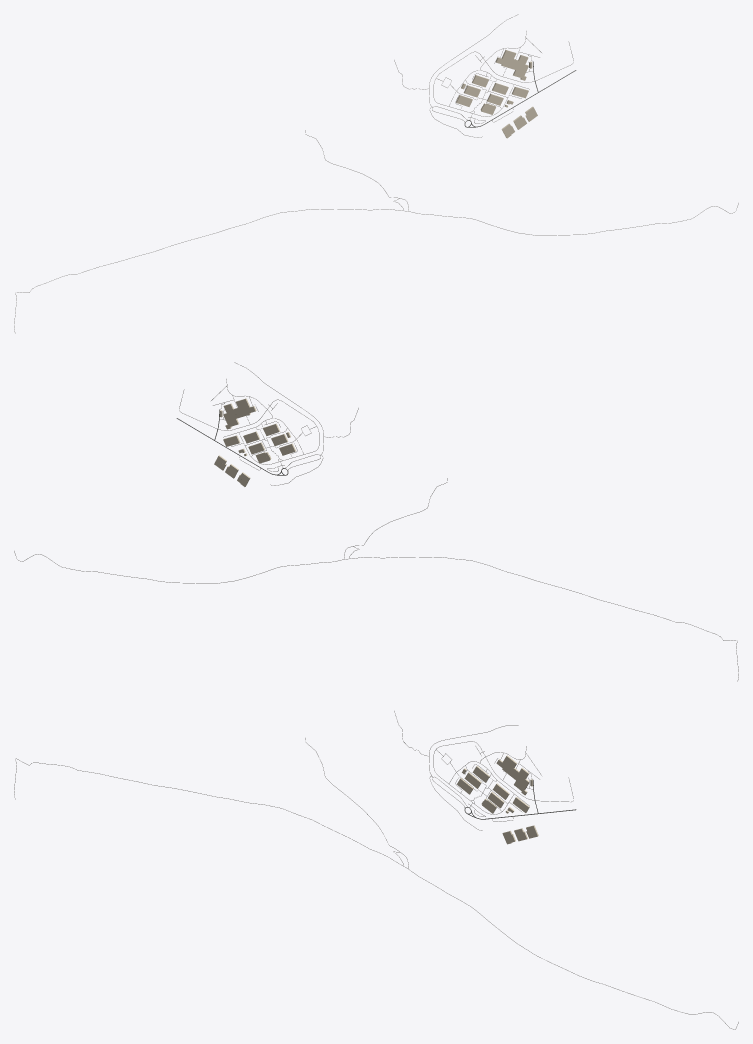
File: historic-palestine-11_35_3526_3297.glb
The picture shows the model from 3 angles, top to bottom: view 1: azimuth 30°, elevation 25°; view 2: azimuth 150°, elevation 25°; view 3: azimuth 330°, elevation 25°; orthographic projection.
Visible parts, largest first — view 1: Road .001, Building_; view 2: Road .001, Building_; view 3: Road .001, Building_.
Part boxes in pixels (x1=…): Road .001: x1=14, y1=203, x2=738, y2=333; Building_: x1=495, y1=49, x2=528, y2=80; Road .001: x1=14, y1=551, x2=738, y2=681; Building_: x1=223, y1=398, x2=256, y2=429; Road .001: x1=14, y1=758, x2=738, y2=1029; Building_: x1=496, y1=755, x2=529, y2=795.
Size of the model in its own units: 3443 by 1140 by 8.7.
